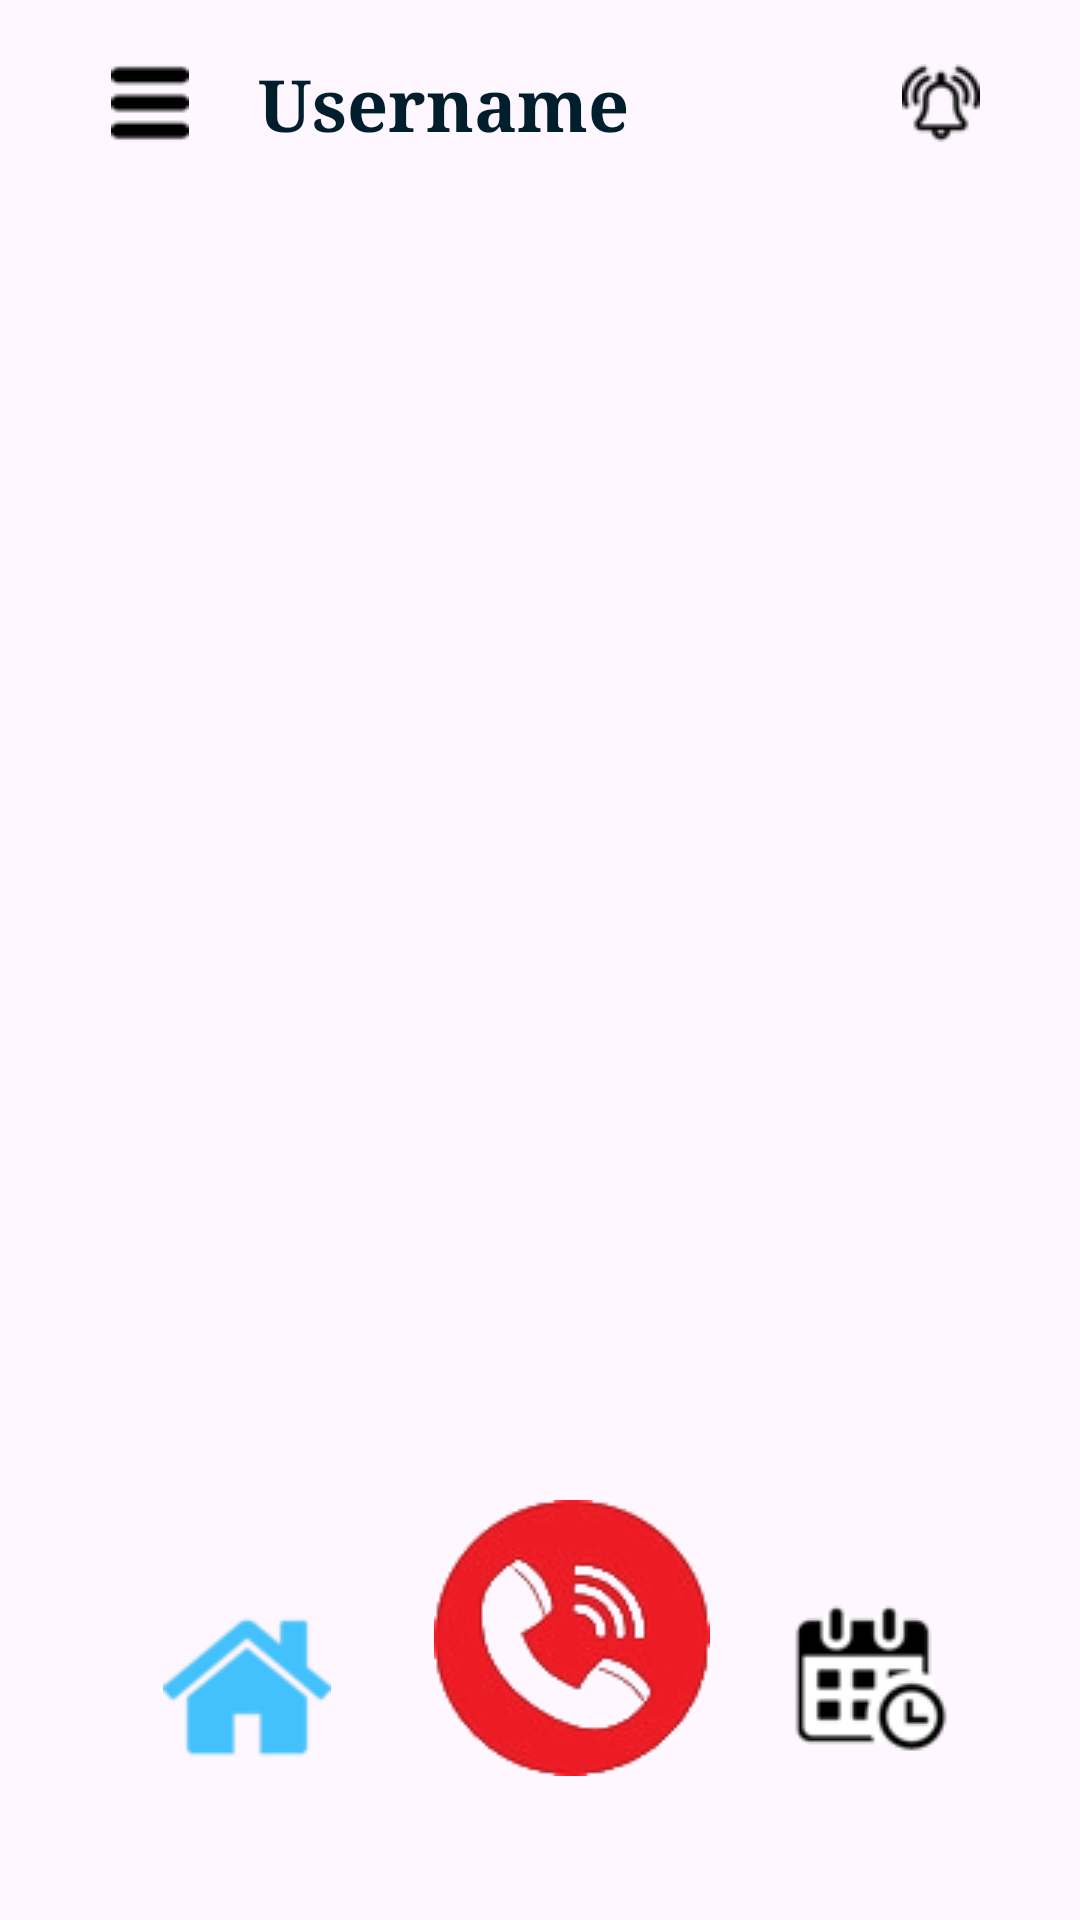

Where icons sit on this 1080w x 1920h app screen, as [x1=x1, y1=y1, x2=x2, y2=y2]:
Emergency Call: [x1=434, y1=1500, x2=710, y2=1776]
Home Icon: [x1=163, y1=1619, x2=331, y2=1756]
Notification Icon: [x1=902, y1=64, x2=980, y2=142]
Schedule Icon: [x1=795, y1=1606, x2=947, y2=1751]
Side Menu: [x1=111, y1=66, x2=189, y2=140]
